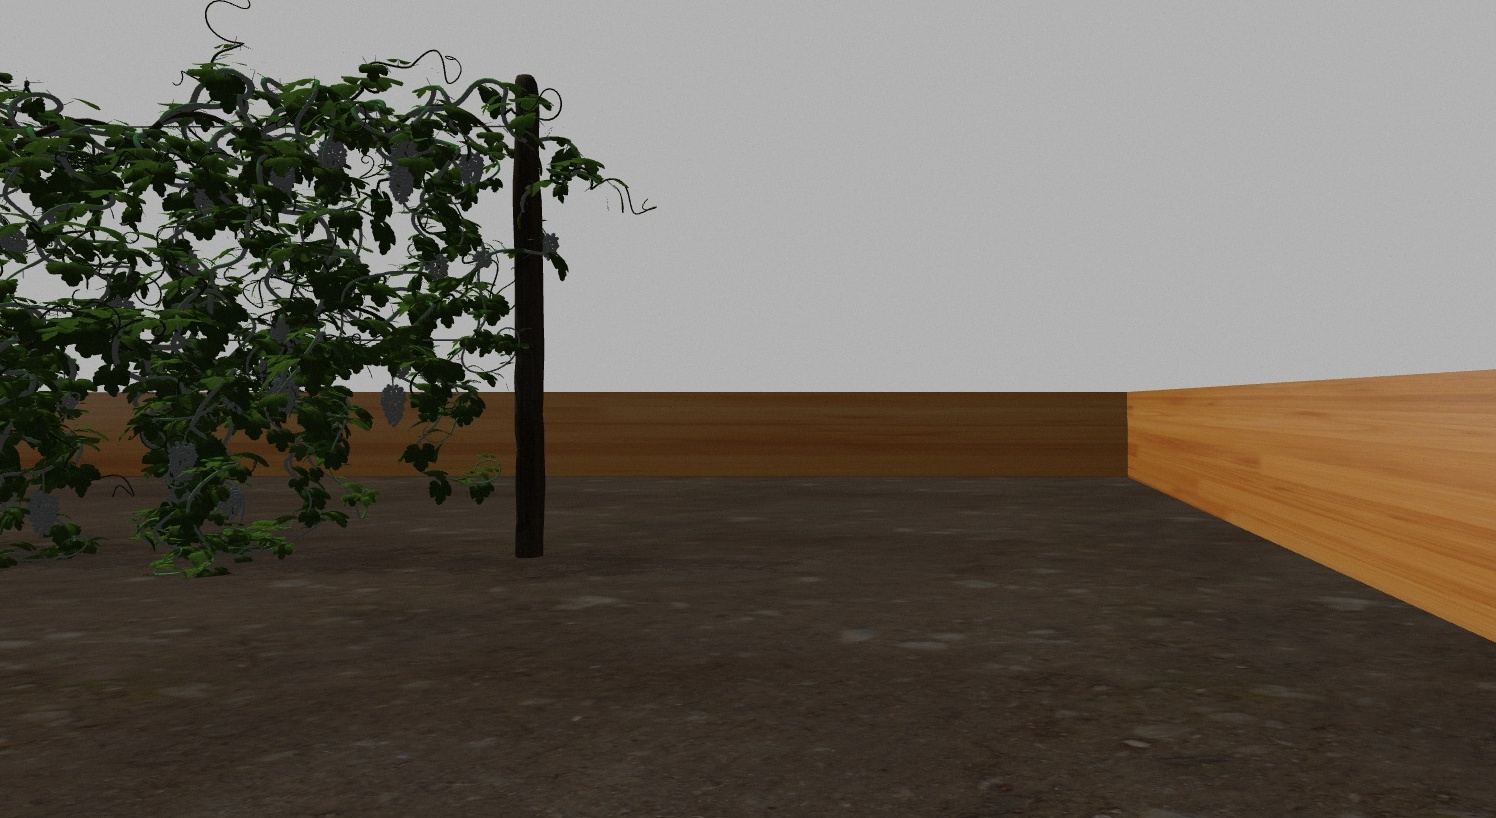grape: (28, 492, 60, 536), (168, 441, 198, 487), (378, 382, 406, 426), (389, 167, 415, 203), (219, 484, 244, 519), (269, 163, 296, 195), (317, 141, 347, 169), (459, 153, 485, 185), (1, 232, 28, 255), (427, 254, 448, 280), (543, 232, 560, 261), (271, 319, 291, 343)
